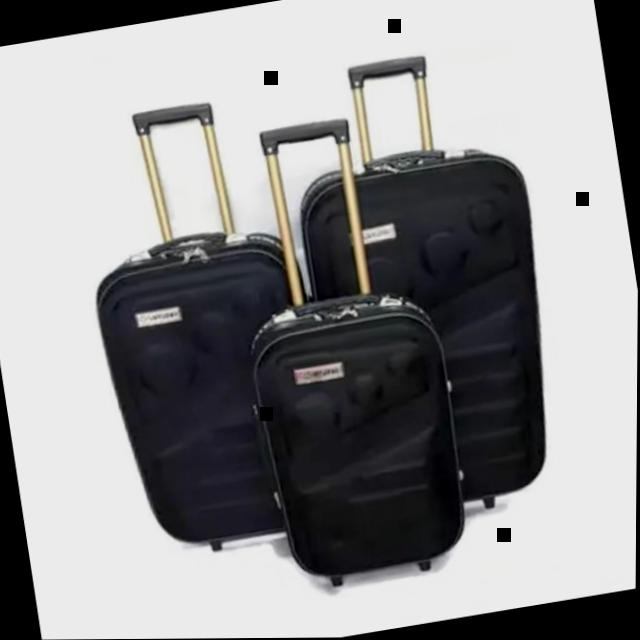luggage: (282, 126, 584, 535), (74, 209, 355, 575), (235, 277, 481, 590)
